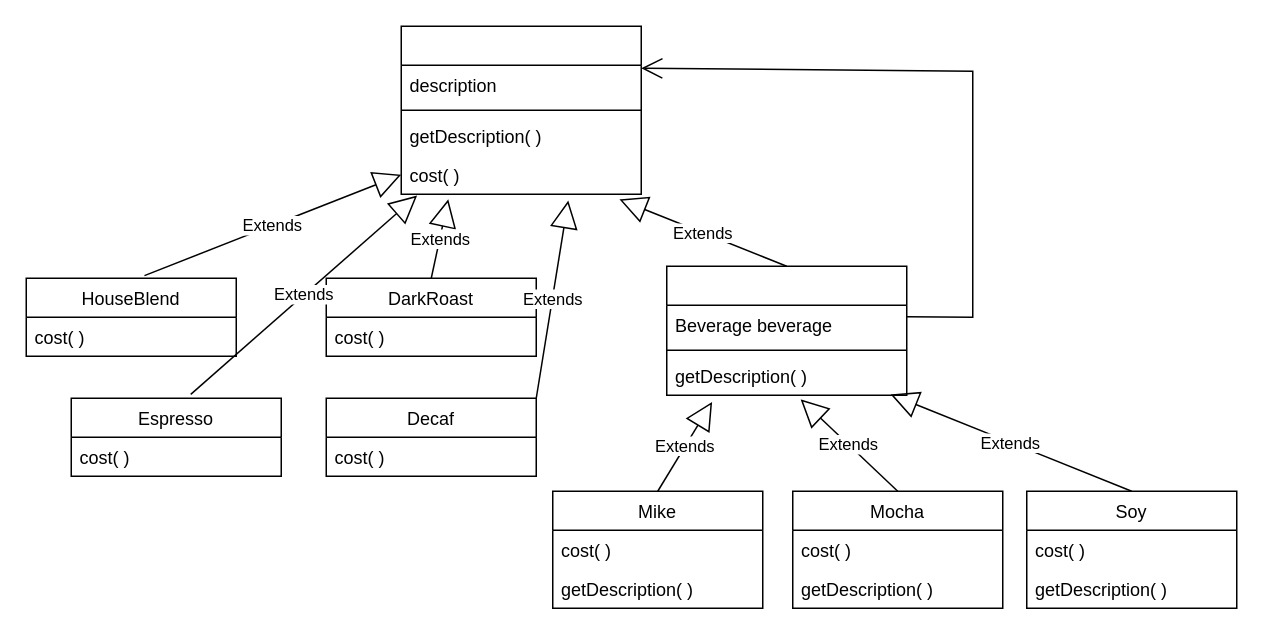
The diagram is 1263 pixels wide and 639 high, and some of its shapes have lost their labels. The shapes that lost their labels are listed below. From the top down, each one's box as (x1, y1, x2, y2) in pixels, then its label:
(400, 25, 641, 194): Beverage
(665, 265, 907, 395): CondimentDecorator
